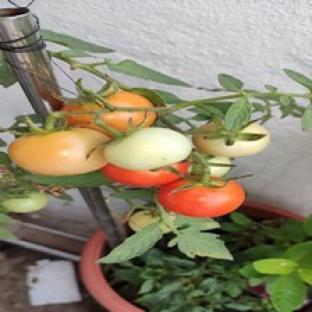Tomato: (9, 129, 108, 175), (105, 127, 192, 169), (158, 180, 245, 217), (193, 123, 270, 157), (101, 162, 189, 186), (62, 104, 108, 135), (0, 191, 48, 213), (129, 211, 160, 231), (208, 156, 231, 176)
